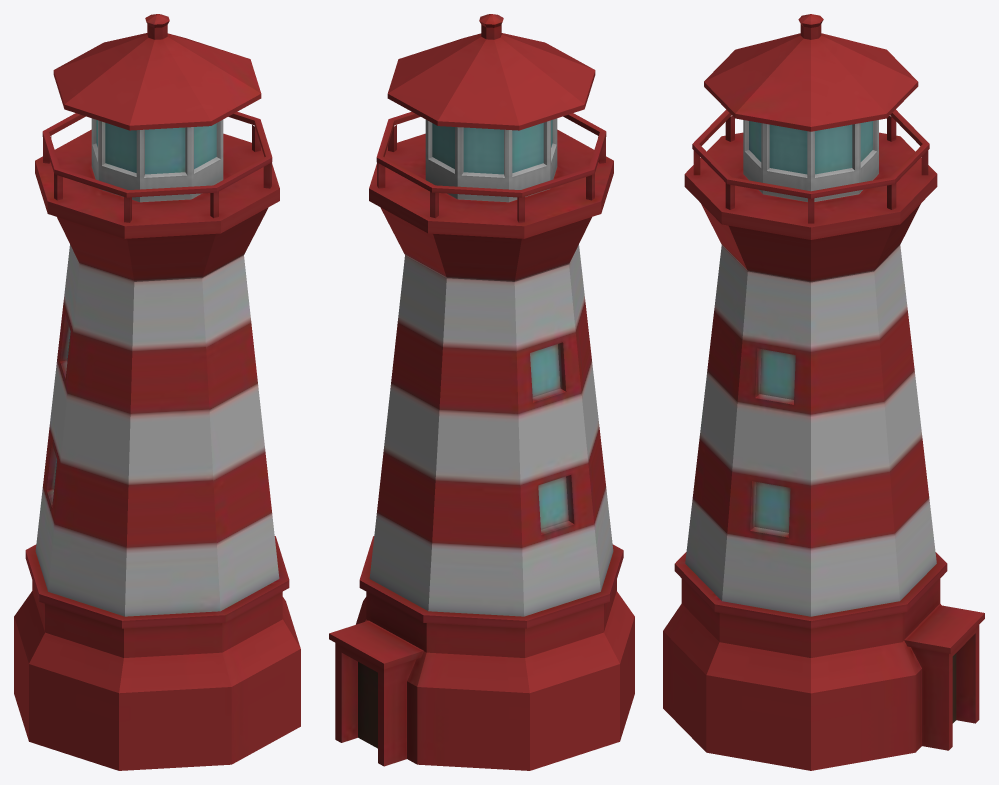
The model's file is lighthouse_b.glb.
The picture shows the model from 3 angles, left to right: view 1: azimuth 30°, elevation 25°; view 2: azimuth 150°, elevation 25°; view 3: azimuth 270°, elevation 25°; orthographic projection.
Visible parts, largest first — view 1: Lighthouse; view 2: Lighthouse; view 3: Lighthouse.
Part boxes in pixels (bbox=[...]): Lighthouse: bbox=[14, 14, 300, 770]; Lighthouse: bbox=[329, 14, 634, 770]; Lighthouse: bbox=[663, 14, 984, 770].
Bounding box in the file's own units: 13.83 × 35.81 × 15.04.
Materials: 1 (1 with a texture image).
